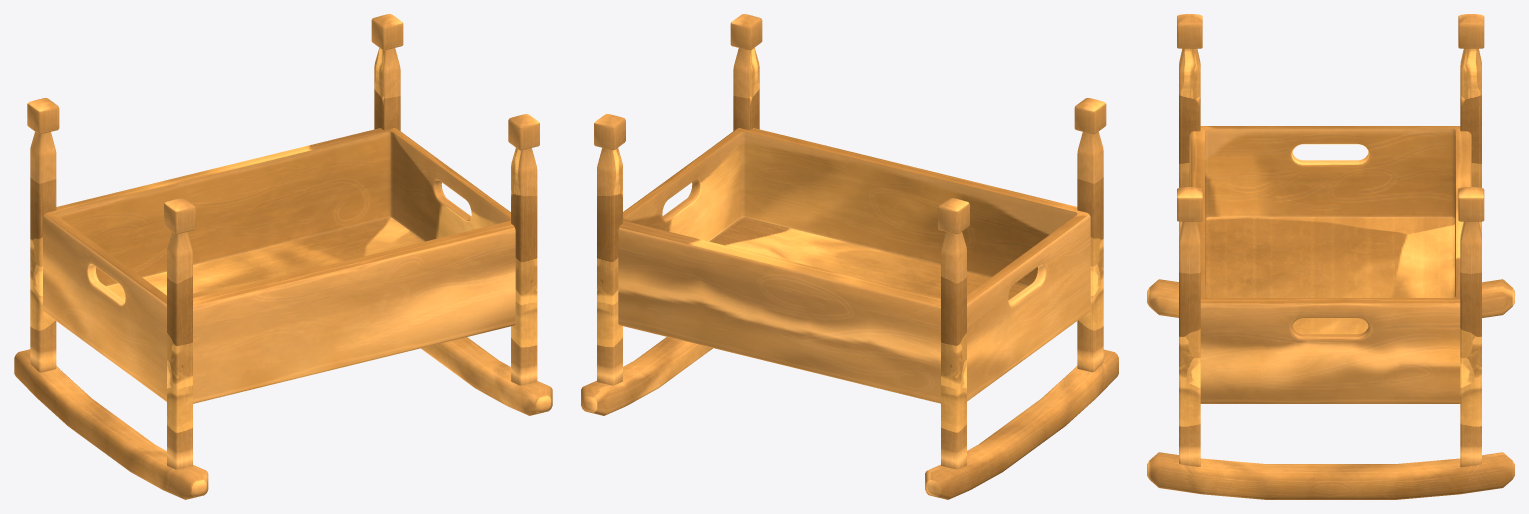
The model's file is SM_BabyCrib.fbx.
The picture shows the model from 3 angles, left to right: view 1: azimuth 30°, elevation 25°; view 2: azimuth 150°, elevation 25°; view 3: azimuth 270°, elevation 25°; orthographic projection. The views are drawn at different scales.
Parts seen in each view (by area): view 1: SM_BabyCrib_LOD0; view 2: SM_BabyCrib_LOD0; view 3: SM_BabyCrib_LOD0.
Boxes of the visible parts, left/top/right/bottom form: SM_BabyCrib_LOD0: left=14, top=14, right=552, bottom=499; SM_BabyCrib_LOD0: left=581, top=14, right=1118, bottom=499; SM_BabyCrib_LOD0: left=1147, top=14, right=1514, bottom=499.
Size of the model in its own units: 170 by 141 by 130.
